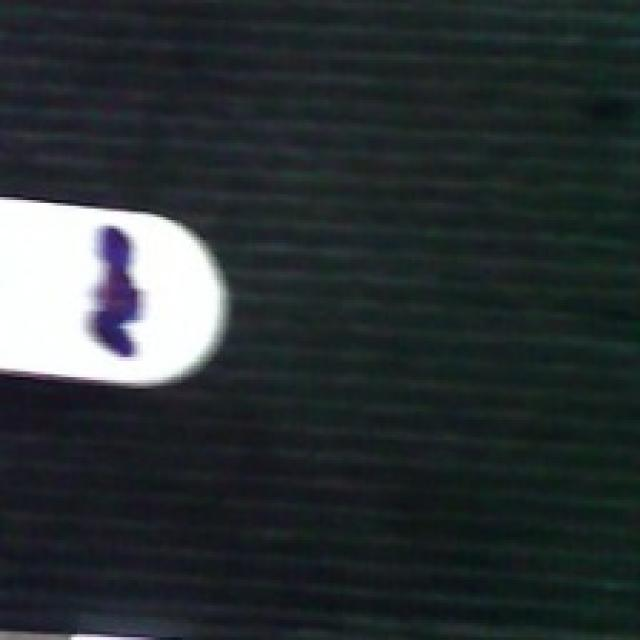defected: (0, 192, 237, 392)
